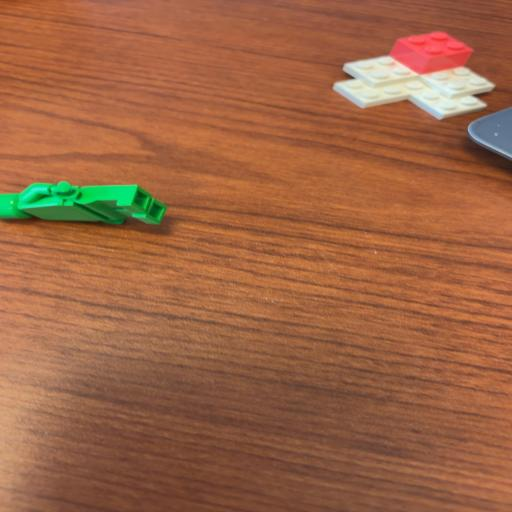UnoQ-minifig-detector: (0, 182, 166, 224)
